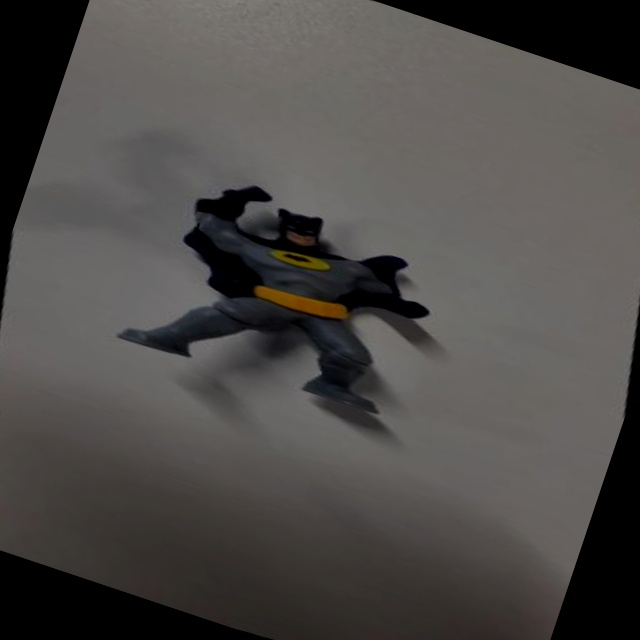Batman: (66, 130, 496, 465)
